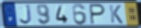4: (56, 5, 70, 25)
6: (72, 2, 88, 26)
9: (36, 3, 52, 26)
J: (19, 4, 34, 25)
K: (108, 4, 124, 25)
P: (89, 3, 107, 26)
